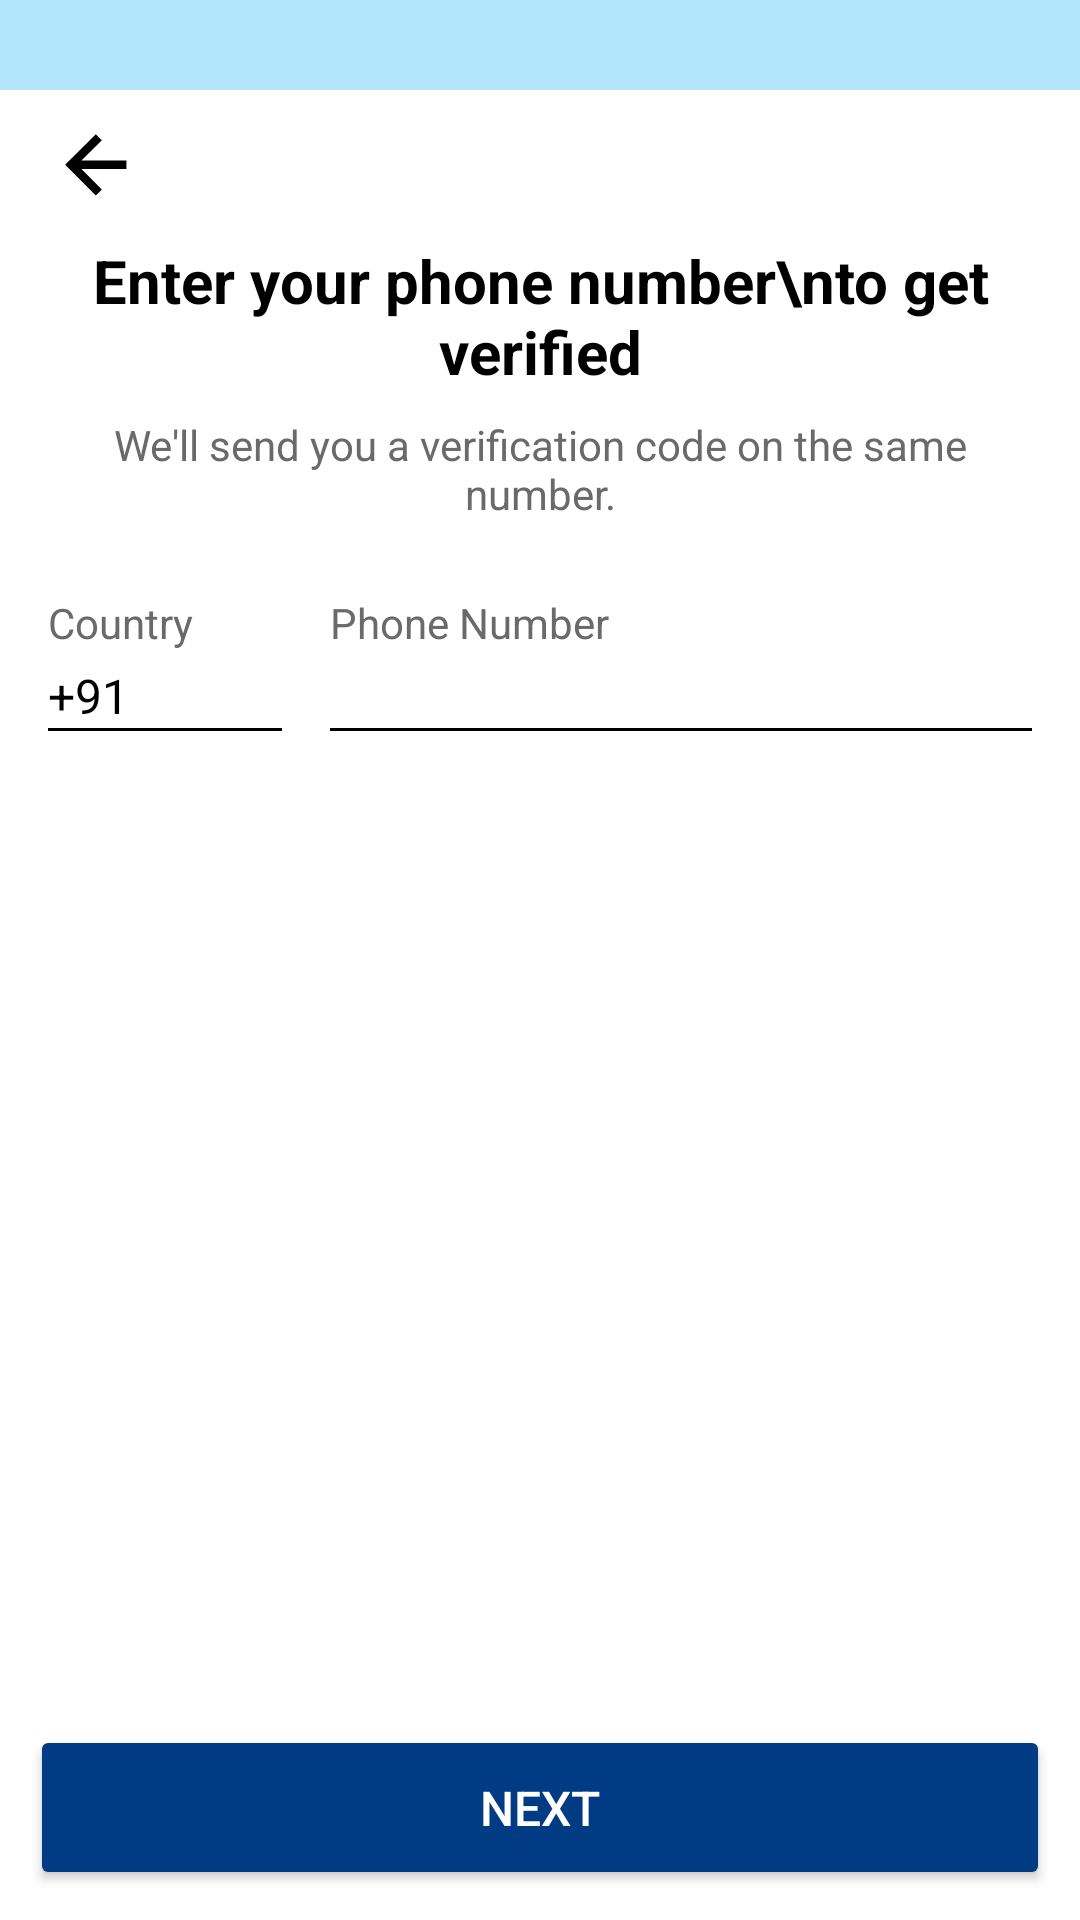

Screen size 1080px x 1920px. Icon name, then its box in pixels as (x1, y1, x2, y2):
Back: (65, 134, 127, 196)
